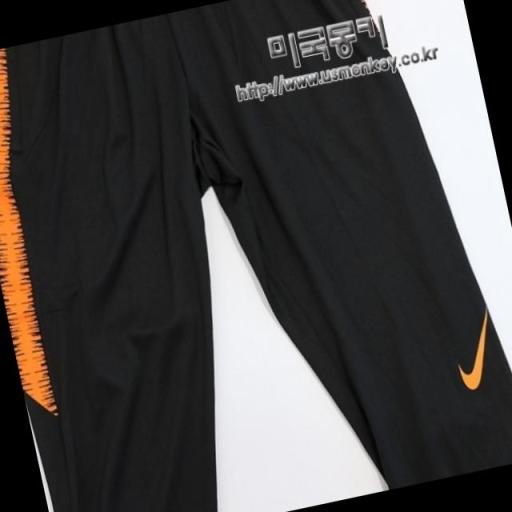Nike: (432, 298, 506, 396)
